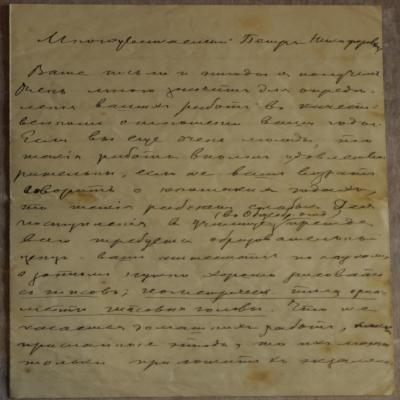document: (8, 3, 393, 398)
